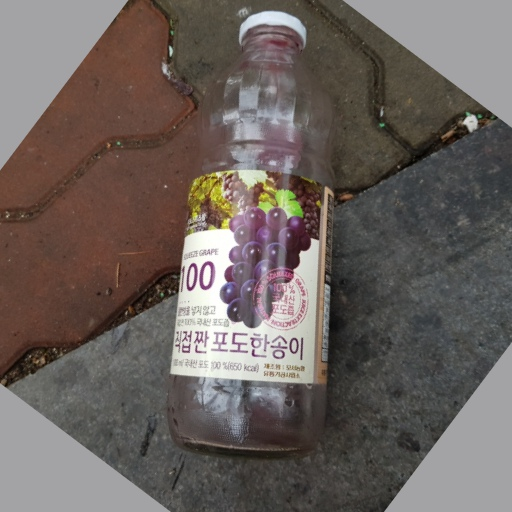Glass_4: (167, 10, 337, 456)
